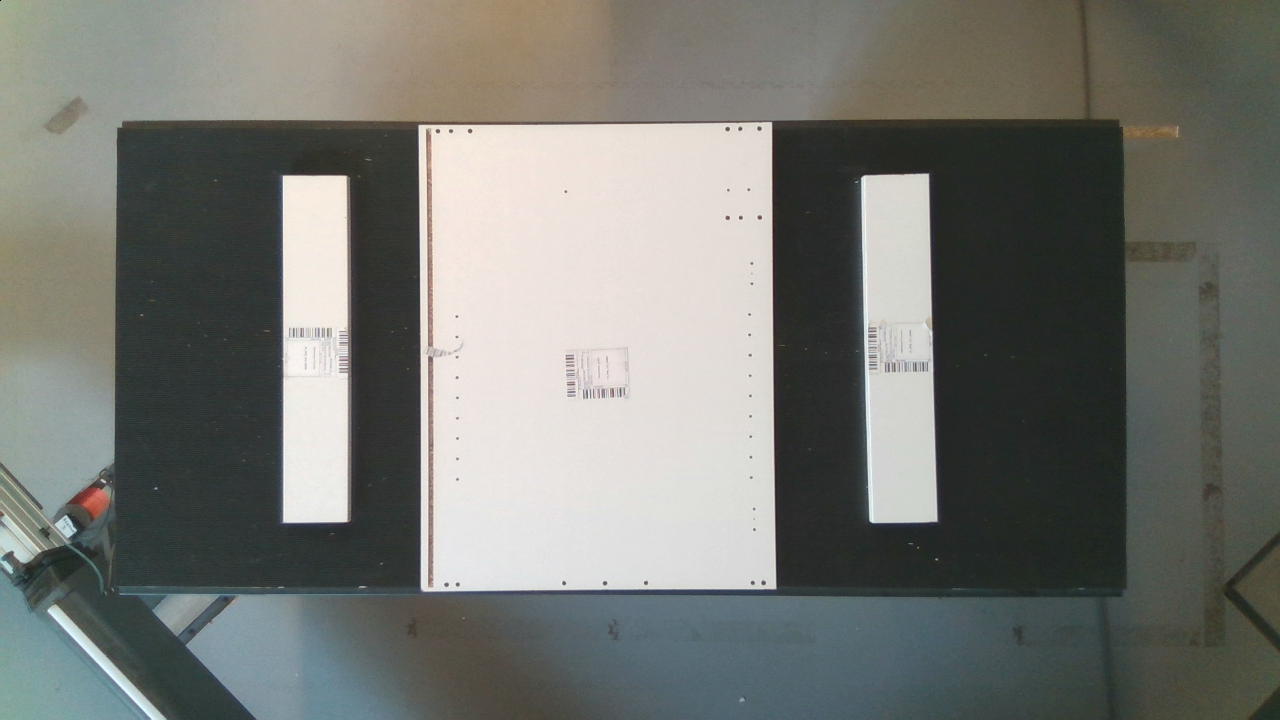barcode: (556, 337, 648, 411), (855, 315, 942, 386), (276, 318, 357, 384)
part1: (845, 160, 957, 541), (269, 157, 360, 533)
part2: (412, 114, 788, 601)
